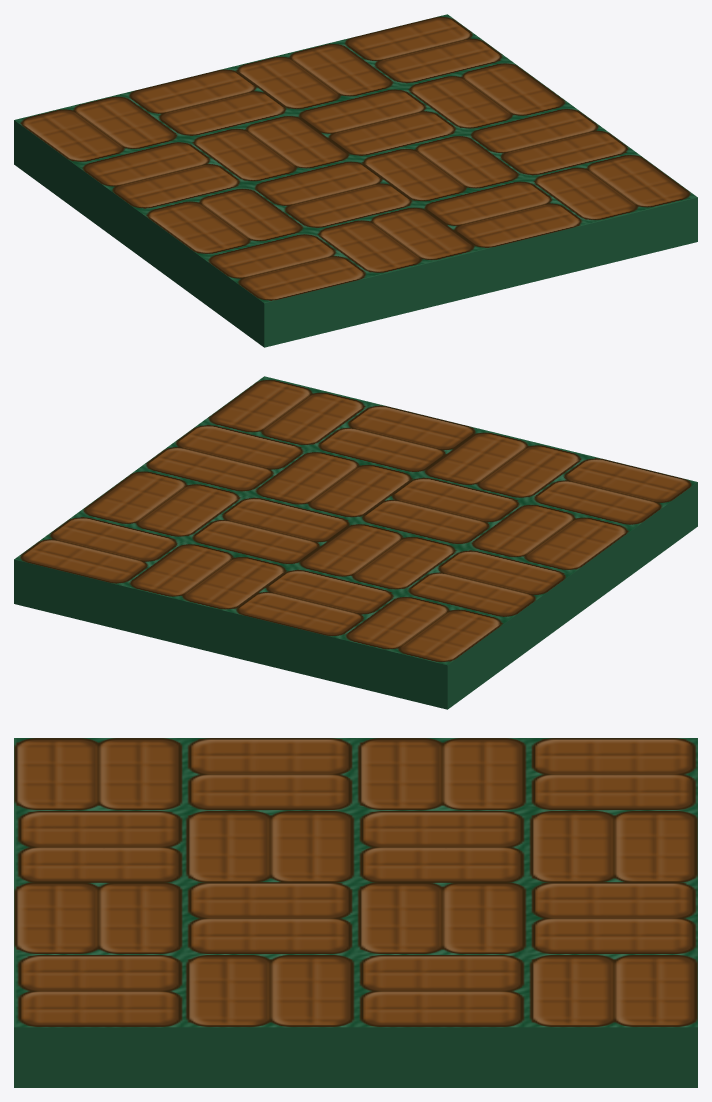
File: chao arena quadrada.fbx
3 renders of one model, top to bottom at view 1: azimuth 30°, elevation 25°; view 2: azimuth 150°, elevation 25°; view 3: azimuth 270°, elevation 25°, orthographic. The views are drawn at different scales.
Visible parts, largest first — view 1: Cube; view 2: Cube; view 3: Cube.
Part boxes in pixels (bbox=[...]): Cube: bbox=[14, 14, 697, 347]; Cube: bbox=[14, 376, 697, 709]; Cube: bbox=[14, 738, 697, 1087].
Size of the model in its own units: 200 by 19.58 by 200.
